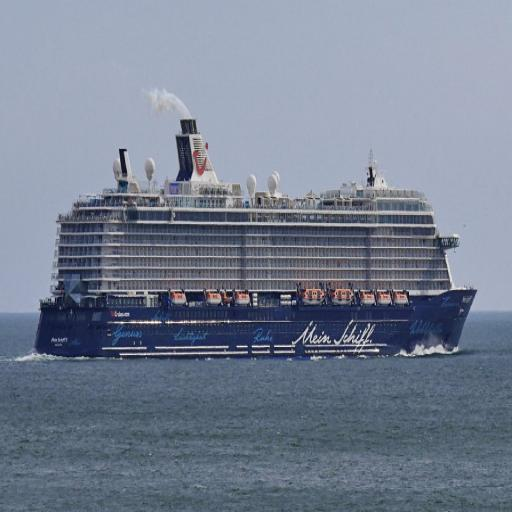cruises: (33, 116, 481, 364)
